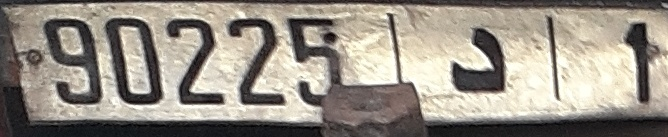0: (103, 17, 164, 105)
1: (621, 16, 652, 104)
2: (226, 17, 288, 108), (164, 18, 227, 106)
5: (287, 16, 346, 108)
9: (41, 15, 102, 109)
d: (446, 24, 510, 96)
